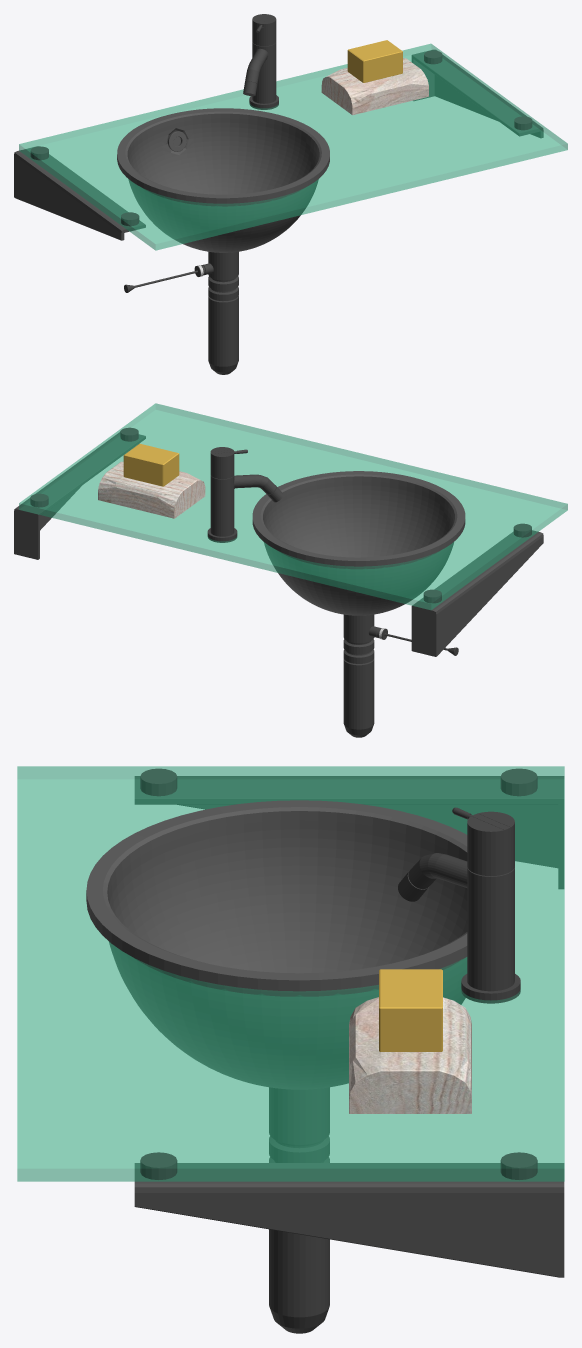
Rendered from bathroom3.obj.
The picture shows the model from 3 angles, top to bottom: view 1: azimuth 30°, elevation 25°; view 2: azimuth 150°, elevation 25°; view 3: azimuth 270°, elevation 25°; orthographic projection. The views are drawn at different scales.
Visible parts, largest first — view 1: cristal_bajo.002_Circle.001, cristal_bajo_Circle, pica_agujereada_Sphere.001, soporte_r_Plane.001, tuberia_desague_Cylinder, soporte_l_Plane.002, jabonera_madera_Cube.003, grifo_mono_Circle.003, jabon_Cube.004; view 2: cristal_bajo.002_Circle.001, cristal_bajo_Circle, pica_agujereada_Sphere.001, soporte_r_Plane.001, tuberia_desague_Cylinder, soporte_l_Plane.002, jabonera_madera_Cube.003, grifo_mono_Circle.003, jabon_Cube.004; view 3: cristal_bajo.002_Circle.001, cristal_bajo_Circle, pica_agujereada_Sphere.001, soporte_l_Plane.002, soporte_r_Plane.001, grifo_mono_Circle.003, jabonera_madera_Cube.003, tuberia_desague_Cylinder, jabon_Cube.004, soporte_redondo.002_Cylinder.006, soporte_redondo_Cylinder.004, soporte_redondo.001_Cylinder.005 (+1 smaller).
Part boxes in pixels (<box>): cristal_bajo.002_Circle.001: <box>19,44,567,250</box>; cristal_bajo_Circle: <box>19,44,566,243</box>; pica_agujereada_Sphere.001: <box>117,108,329,252</box>; soporte_r_Plane.001: <box>14,146,145,240</box>; tuberia_desague_Cylinder: <box>124,251,238,374</box>; soporte_l_Plane.002: <box>412,50,543,137</box>; jabonera_madera_Cube.003: <box>321,58,428,115</box>; grifo_mono_Circle.003: <box>243,14,278,109</box>; jabon_Cube.004: <box>347,40,402,82</box>; cristal_bajo.002_Circle.001: <box>19,404,567,609</box>; cristal_bajo_Circle: <box>20,403,566,603</box>; pica_agujereada_Sphere.001: <box>252,471,465,615</box>; soporte_r_Plane.001: <box>411,530,543,656</box>; tuberia_desague_Cylinder: <box>343,614,458,737</box>; soporte_l_Plane.002: <box>14,432,145,559</box>; jabonera_madera_Cube.003: <box>98,461,205,518</box>; grifo_mono_Circle.003: <box>207,447,283,542</box>; jabon_Cube.004: <box>123,443,179,486</box>; cristal_bajo.002_Circle.001: <box>17,767,564,1181</box>; cristal_bajo_Circle: <box>17,766,564,1168</box>; pica_agujereada_Sphere.001: <box>86,800,467,1089</box>; soporte_l_Plane.002: <box>134,1163,564,1277</box>; soporte_r_Plane.001: <box>135,776,563,888</box>; grifo_mono_Circle.003: <box>398,807,520,1003</box>; jabonera_madera_Cube.003: <box>349,997,471,1113</box>; tuberia_desague_Cylinder: <box>269,1087,329,1333</box>; jabon_Cube.004: <box>379,969,442,1051</box>; soporte_redondo.002_Cylinder.006: <box>140,1152,177,1179</box>; soporte_redondo_Cylinder.004: <box>500,768,537,796</box>; soporte_redondo.001_Cylinder.005: <box>140,768,177,796</box>.
Size of the model in its own units: 71.98 by 48.44 by 40.38.
Materials: 8 (2 with a texture image).
